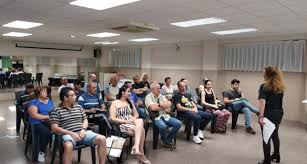person: (54, 88, 92, 133), (106, 82, 140, 122), (259, 69, 285, 117), (147, 82, 168, 111), (176, 81, 193, 107)
